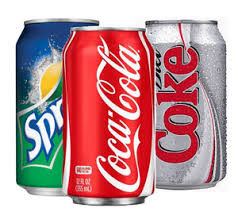coke: (64, 29, 156, 205), (144, 19, 225, 188)
